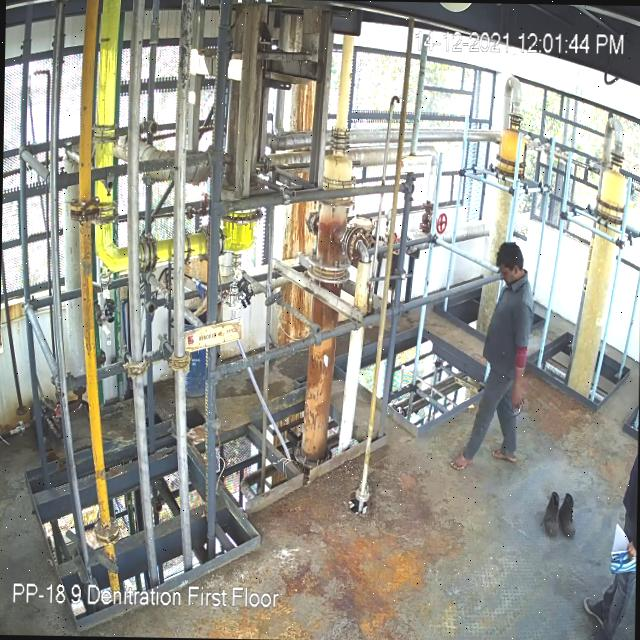boots: (539, 488, 562, 537), (559, 493, 578, 536)
no-boots: (491, 446, 519, 466), (453, 446, 474, 468)
